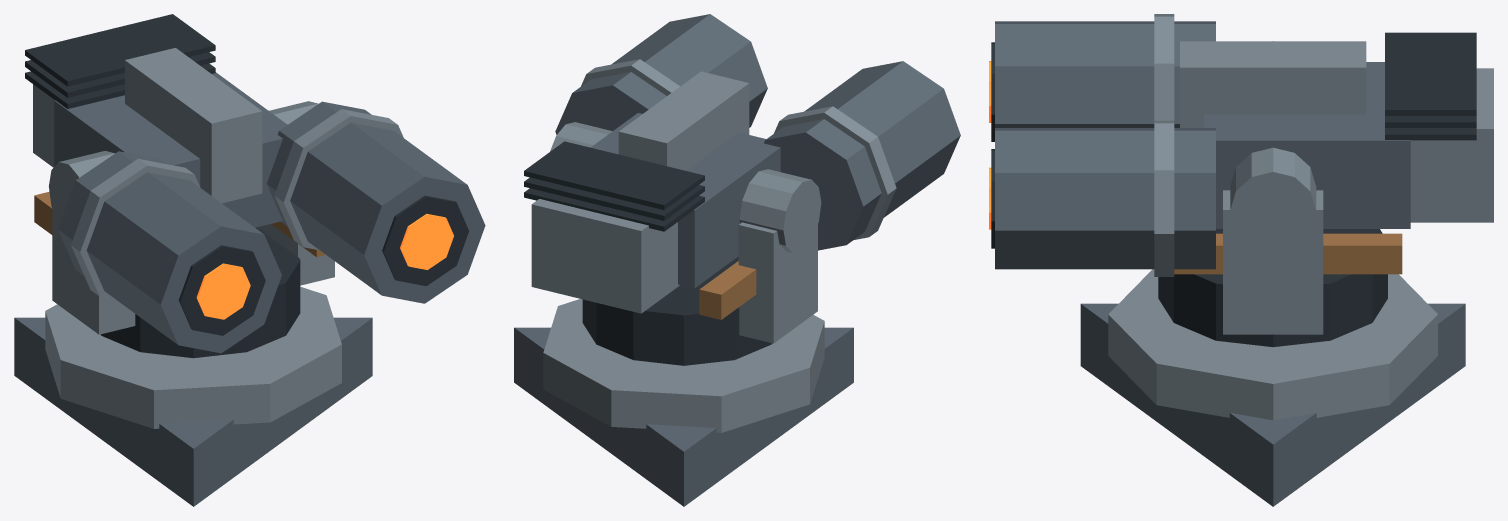
Rendered from kiln_t1_d0.meshopt.glb.
3 renders of one model, left to right at view 1: azimuth 30°, elevation 25°; view 2: azimuth 150°, elevation 25°; view 3: azimuth 270°, elevation 25°, orthographic. The views are drawn at different scales.
Visible parts, largest first — view 1: RECOIL_ARMOR_GEOMETRY, BASE_ARMOR_GEOMETRY, YAW_ARMOR_GEOMETRY, RECOIL_SIGNAL_GEOMETRY; view 2: RECOIL_ARMOR_GEOMETRY, BASE_ARMOR_GEOMETRY, YAW_ARMOR_GEOMETRY; view 3: RECOIL_ARMOR_GEOMETRY, BASE_ARMOR_GEOMETRY, YAW_ARMOR_GEOMETRY.
Boxes of the visible parts, x1,y1,x2,y2 form: RECOIL_ARMOR_GEOMETRY: (25,14,485,353); BASE_ARMOR_GEOMETRY: (14,287,372,506); YAW_ARMOR_GEOMETRY: (52,209,334,358); RECOIL_SIGNAL_GEOMETRY: (196,213,453,319); RECOIL_ARMOR_GEOMETRY: (524,14,960,319); BASE_ARMOR_GEOMETRY: (514,299,853,506); YAW_ARMOR_GEOMETRY: (582,222,817,365); RECOIL_ARMOR_GEOMETRY: (991,14,1493,276); BASE_ARMOR_GEOMETRY: (1080,269,1465,506); YAW_ARMOR_GEOMETRY: (1158,190,1387,347).
Bounding box in the file's own units: 1.5 × 1.38 × 1.76.
